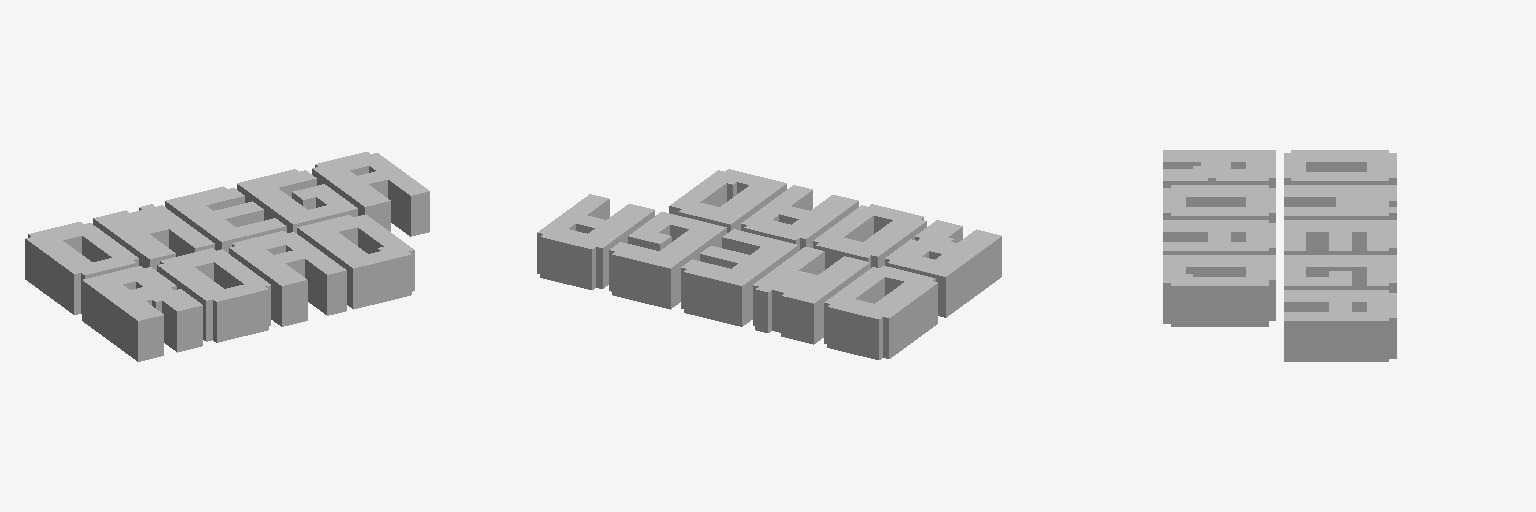
File: Omega Road.obj
The picture shows the model from 3 angles: view 1: azimuth 30°, elevation 25°; view 2: azimuth 150°, elevation 25°; view 3: azimuth 270°, elevation 25°; orthographic projection.
Bounding box in the file's own units: 54 × 6 × 31.